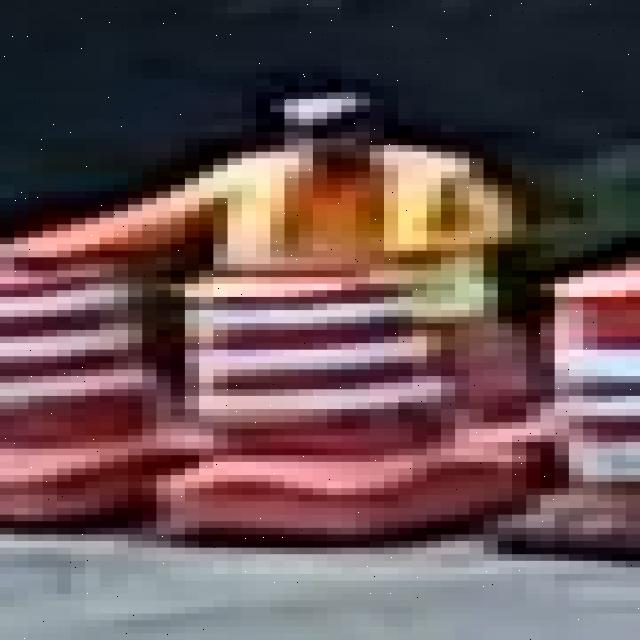big_cone: (196, 276, 444, 530), (0, 251, 136, 516)
